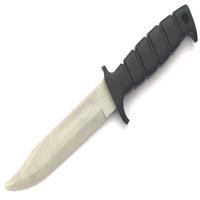knife: (4, 7, 194, 194)
